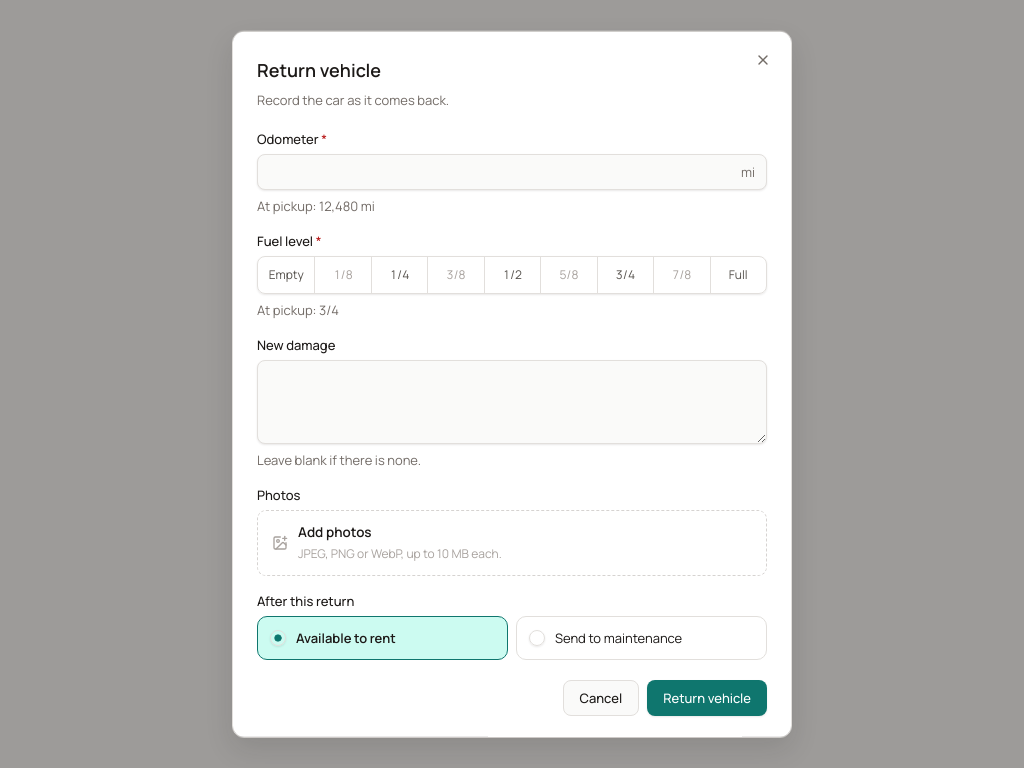
it: BookingConditionDialog › refuses a return whose odometer went backwards
Expected: the text "At pickup: 12,480 mi" is shown, [257,197,375,215]
Expected: the text "At pickup: 3/4" is shown, [257,301,339,319]
In the field labelled "Odometer *": {"x": 512, "y": 172} [257,154,767,190], type "12400"
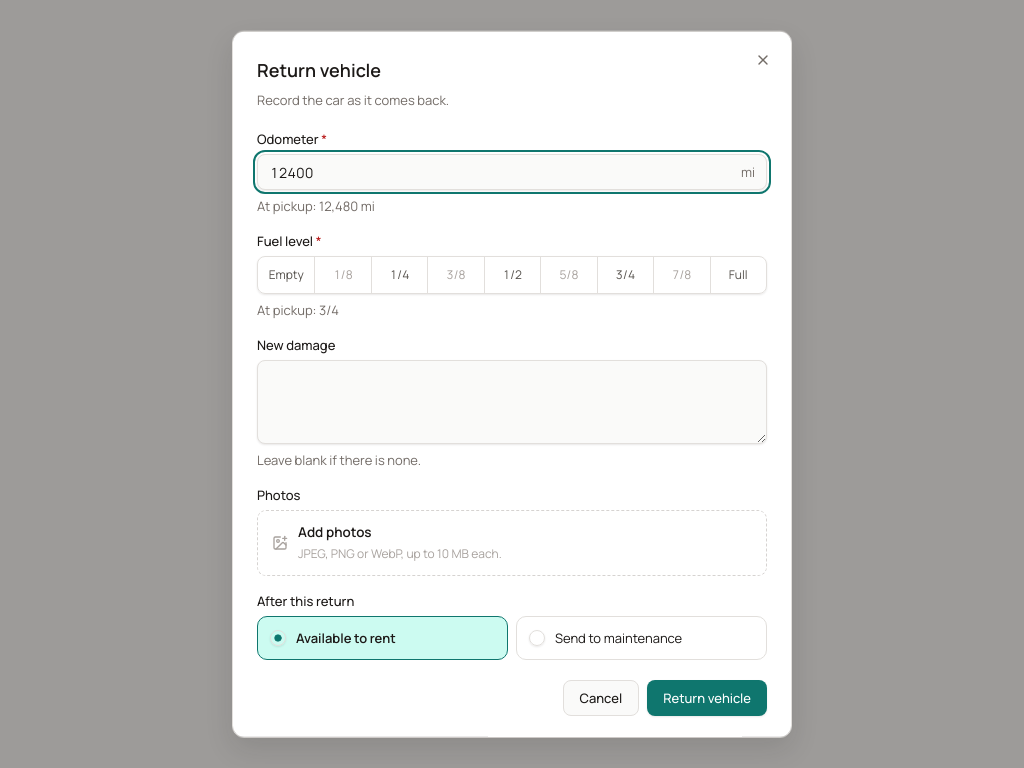
Click the 1st radio button labelled "1/2": {"x": 512, "y": 275} [484,257,540,293]
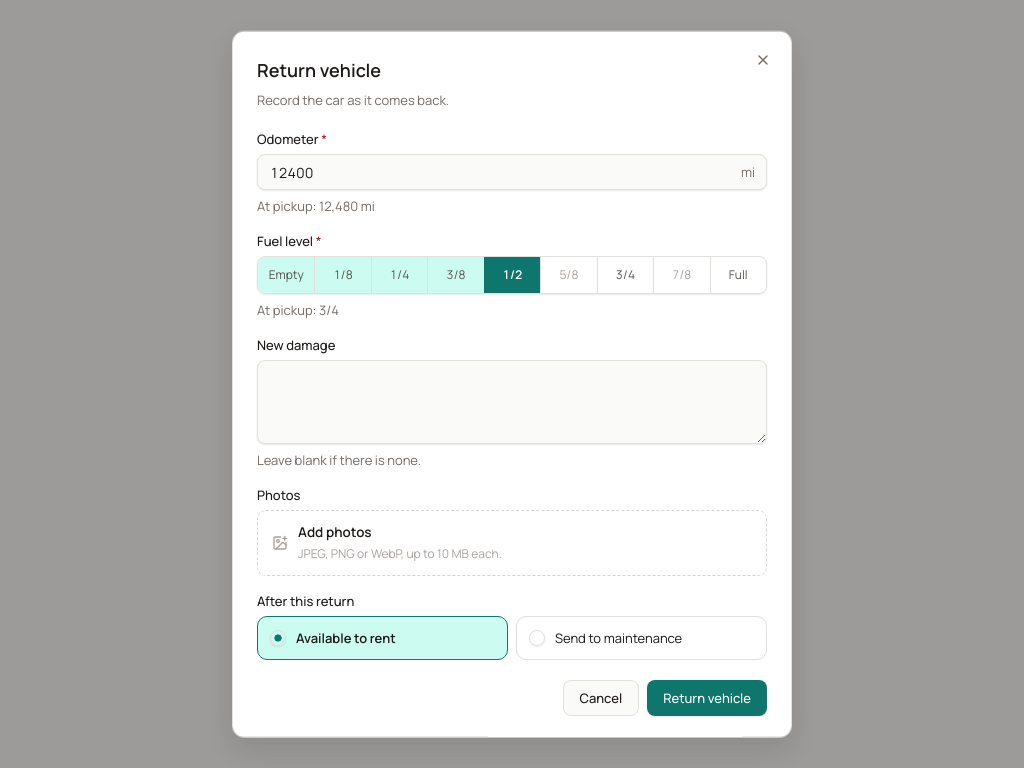
Click the button "Return vehicle": {"x": 707, "y": 698} [647,680,767,716]
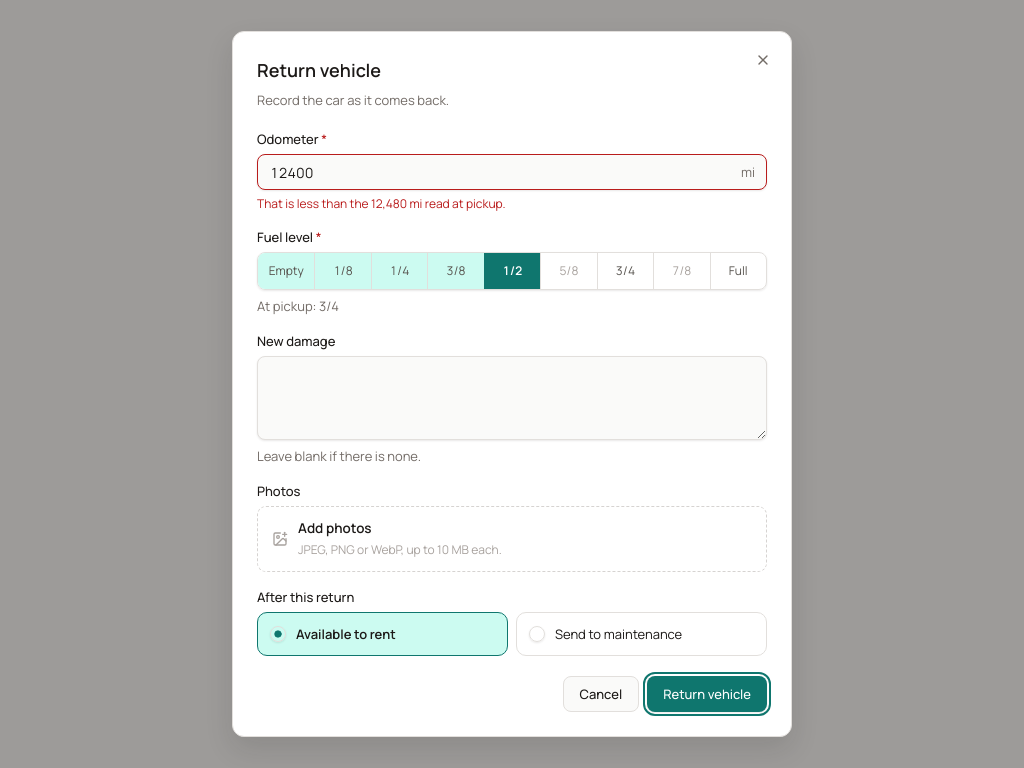
Result: the text "That is less than the 12,480 mi read at pickup." is shown at [257,195,506,212]
